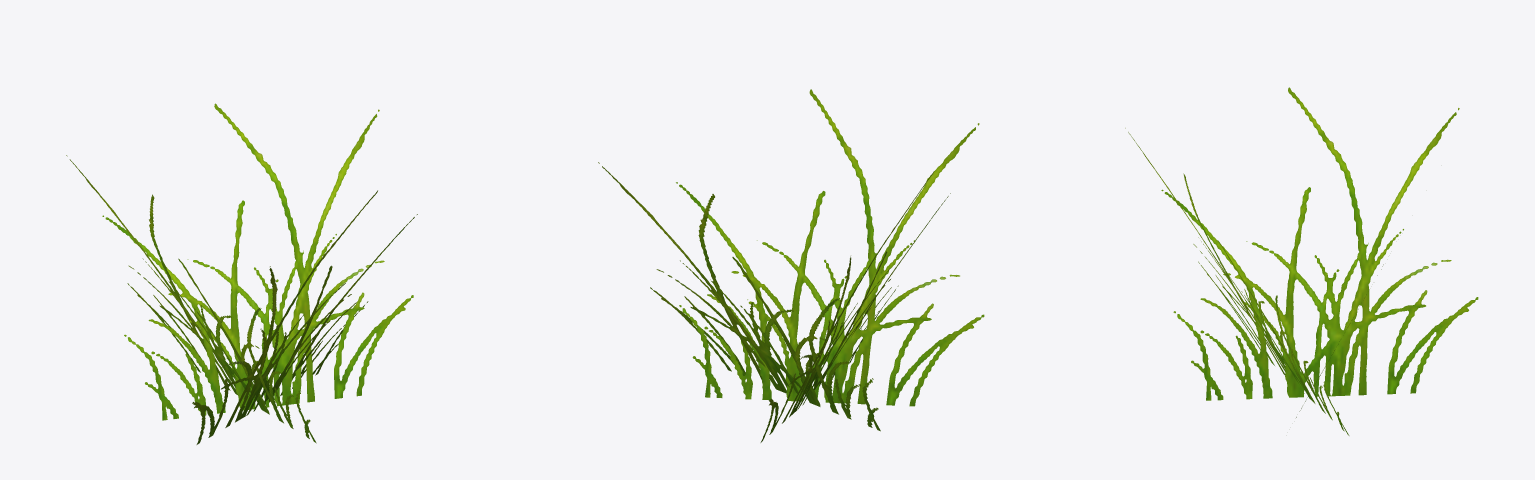
Rendered from yzc_cao03.FBX.
3 views of the same model, side by side, from view 1: azimuth 30°, elevation 25°; view 2: azimuth 150°, elevation 25°; view 3: azimuth 270°, elevation 25° (orthographic).
Visible parts, largest first — view 1: yzc_cao03; view 2: yzc_cao03; view 3: yzc_cao03.
Part boxes in pixels (<box>): yzc_cao03: <box>66,103,417,444</box>; yzc_cao03: <box>598,89,984,442</box>; yzc_cao03: <box>1125,87,1478,435</box>.
Size of the model in its own units: 104 by 79.69 by 106.
